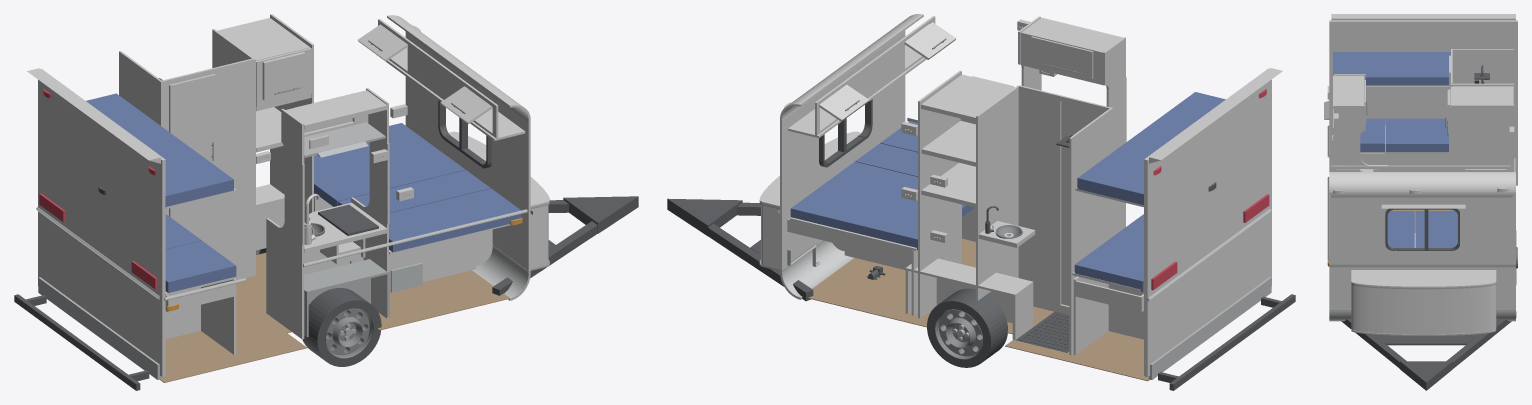
File: MOBILIÁRIO PARA REBOQUE DE 3,5 M - MODO DE DESCANSO.glb
3 views of the same model, side by side, from view 1: azimuth 30°, elevation 25°; view 2: azimuth 150°, elevation 25°; view 3: azimuth 270°, elevation 25° (orthographic). The views are drawn at different scales.
Parts seen in each view (by area): view 1: Mesh_Mesh_head_geo.001_lambert2SG.001; view 2: Mesh_Mesh_head_geo.001_lambert2SG.001; view 3: Mesh_Mesh_head_geo.001_lambert2SG.001.
Boxes of the visible parts, <box> form: Mesh_Mesh_head_geo.001_lambert2SG.001: <box>14,14,638,390</box>; Mesh_Mesh_head_geo.001_lambert2SG.001: <box>667,14,1295,390</box>; Mesh_Mesh_head_geo.001_lambert2SG.001: <box>1324,14,1517,390</box>.
Bounding box in the file's own units: 0.273 × 0.118 × 0.107.
